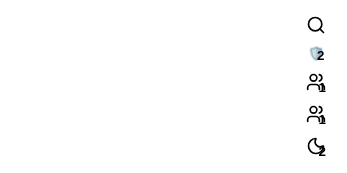
Test: MemberList › compact role bubbles › uses highest-role assignment, role emoji/fallback, and presence fallback groups
Expected: the text "🛡️" is shown, [308,47,324,60]
Expected: the 1st icon with class "lucide-users" is shown, [306,72,326,92]
Click the button named "Moderators — 2". click: (316, 54)
box: [304,43,328,64]
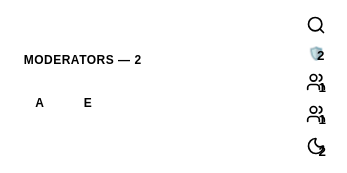
Now the button named "Alice — Online" is shown, box [18,81,62,125]
Now the button named "Eve — Do Not Disturb" is shown, box [66,81,110,125]
Click the button named "Helpers — 1". click: (316, 82)
box: [302,68,330,96]
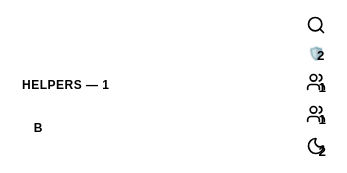
Now the button named "Bob — Online" is shown, box [16,106,60,150]
